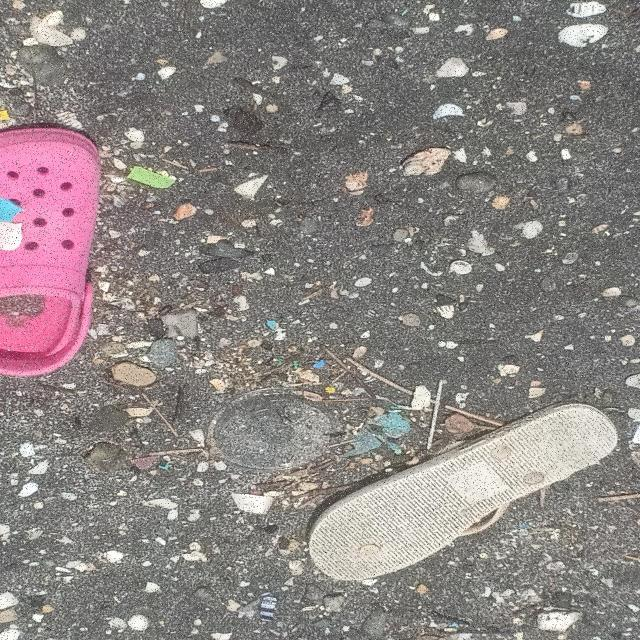plastic_waste: (206, 388, 340, 475)
rubber_waste: (307, 402, 622, 583), (1, 127, 105, 379)
